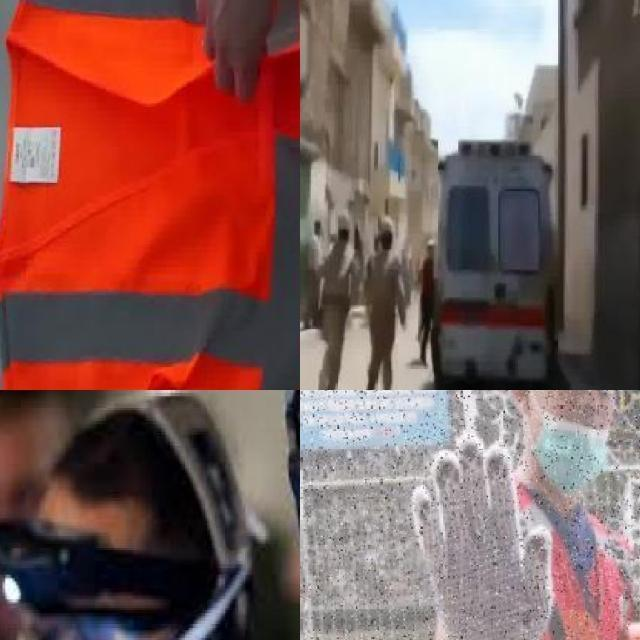apron: (402, 422, 558, 640)
